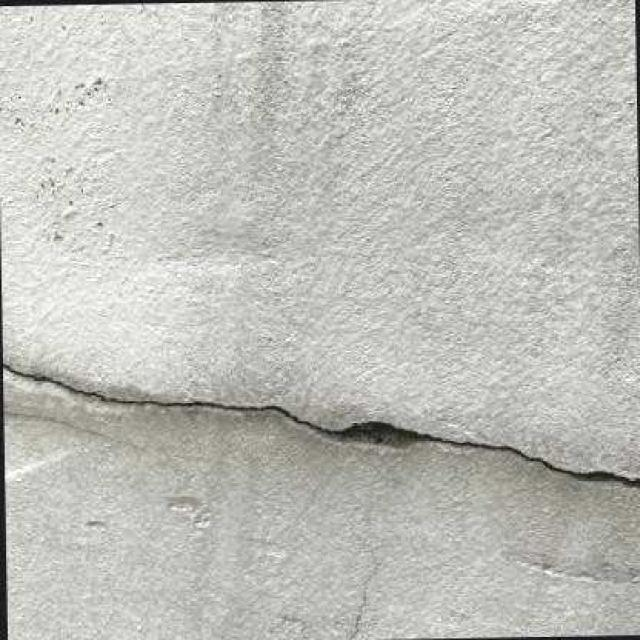D00: (1, 362, 640, 492)
